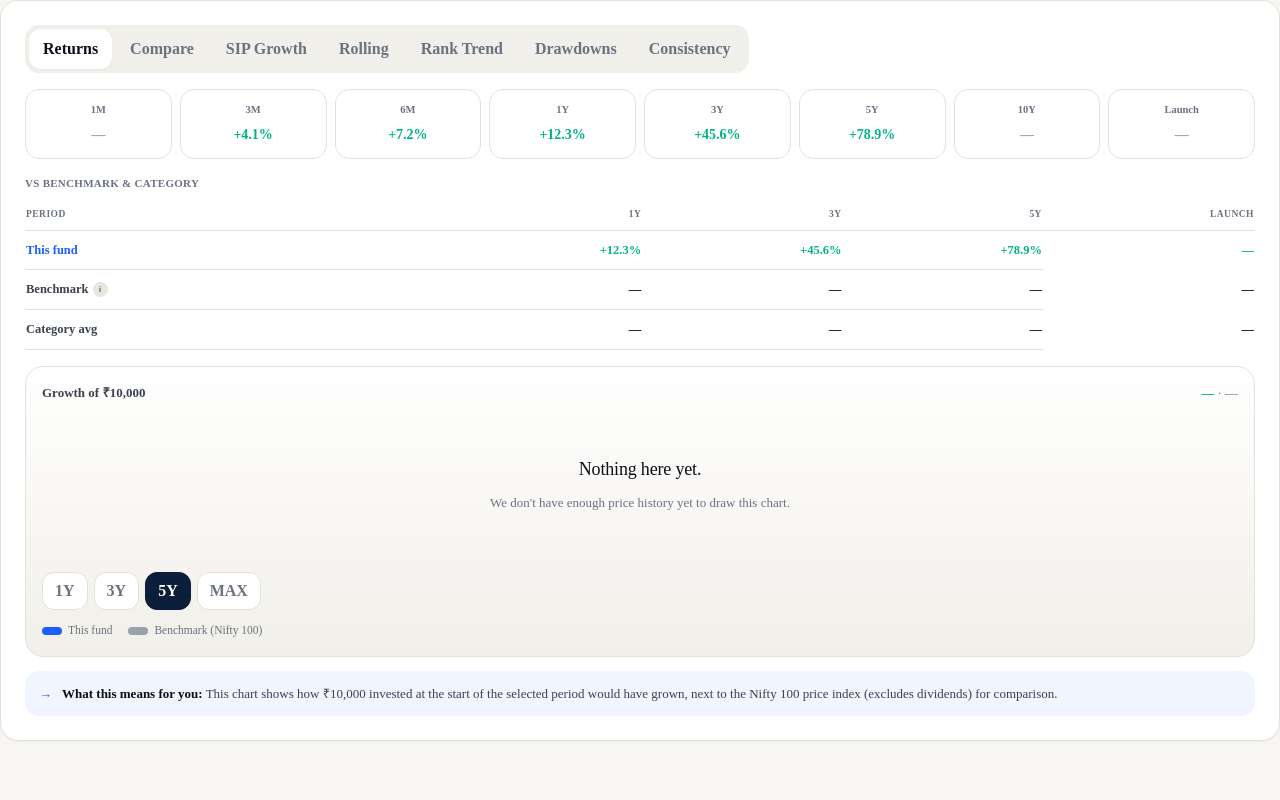
Test case: Compare tab (Phase 4c pt4) — fund vs benchmark vs category › renders the honest fallback label verbatim when is_fallback is true
Click the tab "Compare" at (162, 49), box [116, 29, 208, 69]
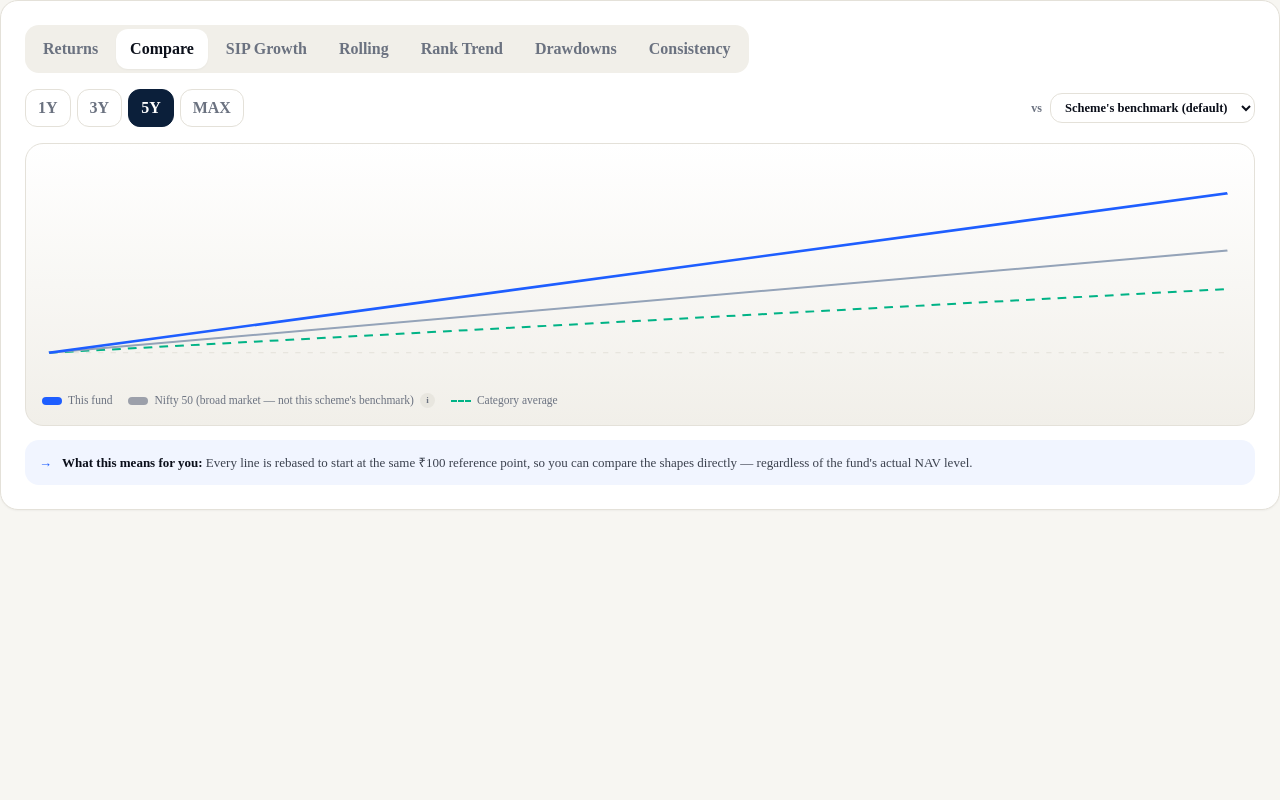
Expected: the text "Nifty 50 (broad market — not this scheme's benchmark)" is shown, [154, 394, 414, 406]
